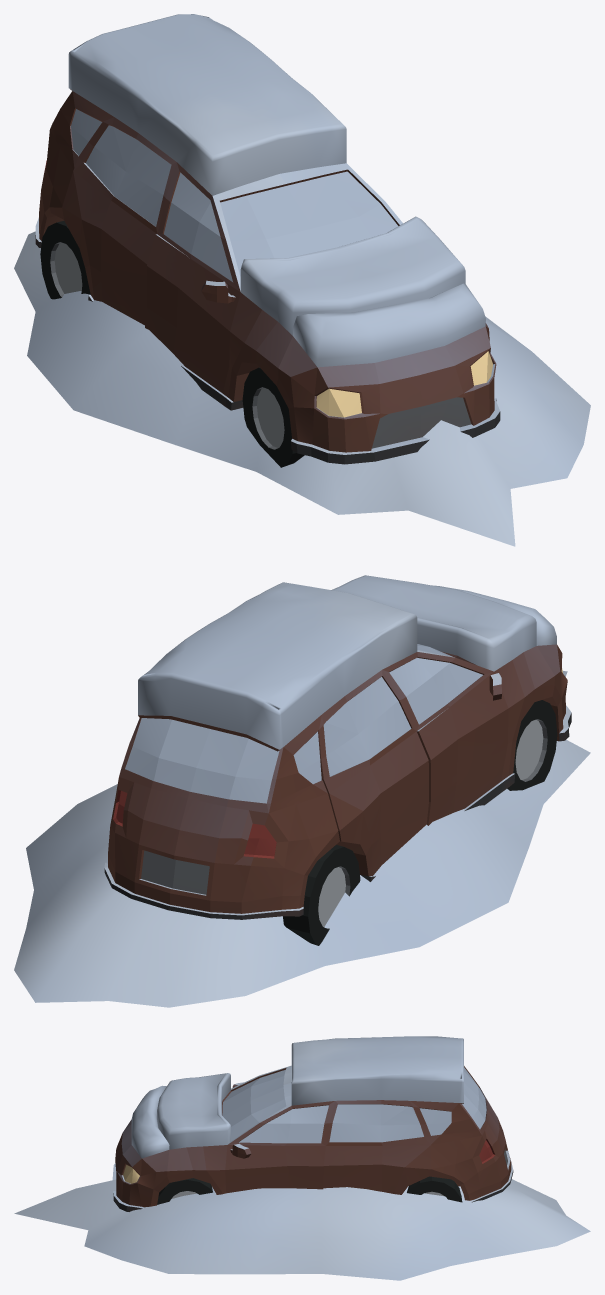
The model's file is suv_snowed.glb.
3 views of the same model, one above another, from view 1: azimuth 30°, elevation 25°; view 2: azimuth 150°, elevation 25°; view 3: azimuth 270°, elevation 25° (orthographic). The views are drawn at different scales.
Visible parts, largest first — view 1: Body; view 2: Body; view 3: Body.
Part boxes in pixels (box(x1,y1,x2,y2)): Body: box(14, 14, 590, 546); Body: box(14, 575, 590, 1007); Body: box(14, 1036, 590, 1280).
Size of the model in its own units: 3.53 by 2.11 by 6.91.
